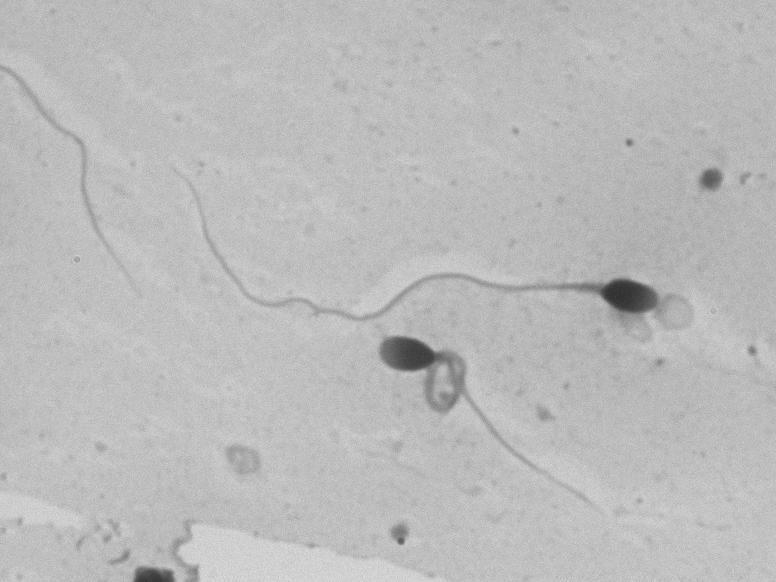Abnormal: (350, 308, 578, 516)
Normal: (168, 153, 675, 341)
